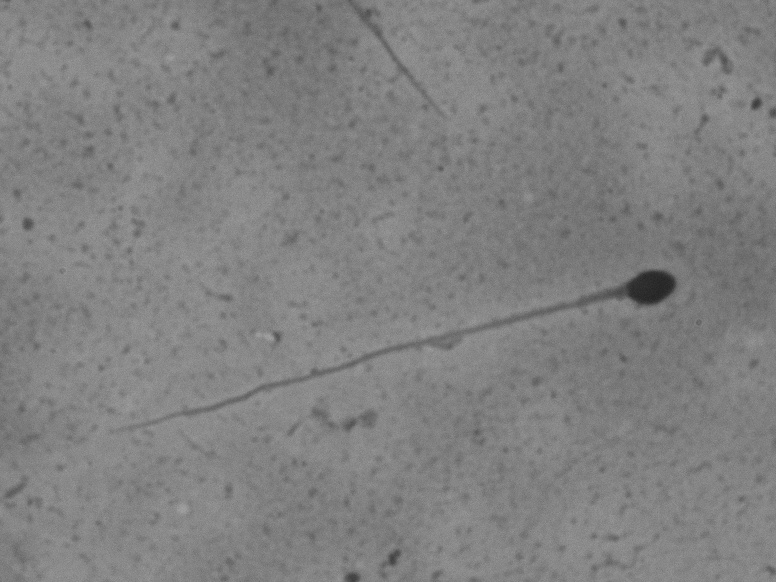Abnormal: (99, 225, 694, 463)
